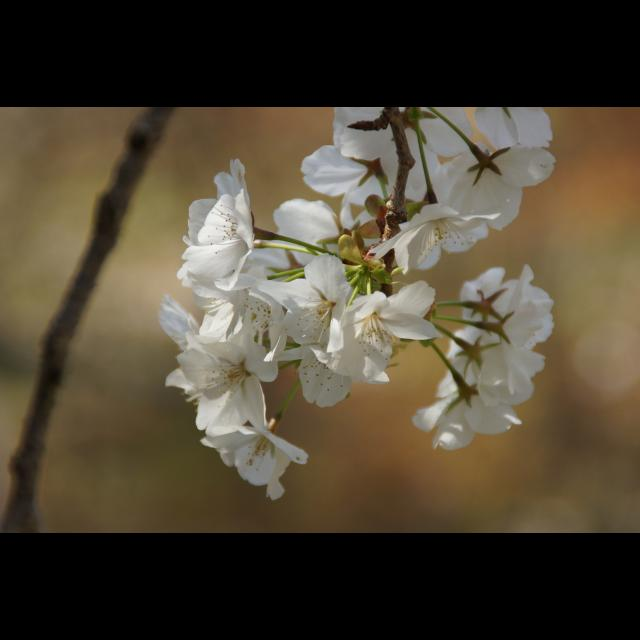Flower: (175, 107, 557, 407), (412, 264, 556, 452), (167, 300, 299, 492)
